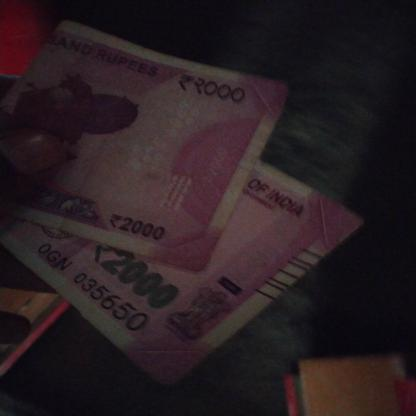New2000Back: (8, 25, 250, 233)
